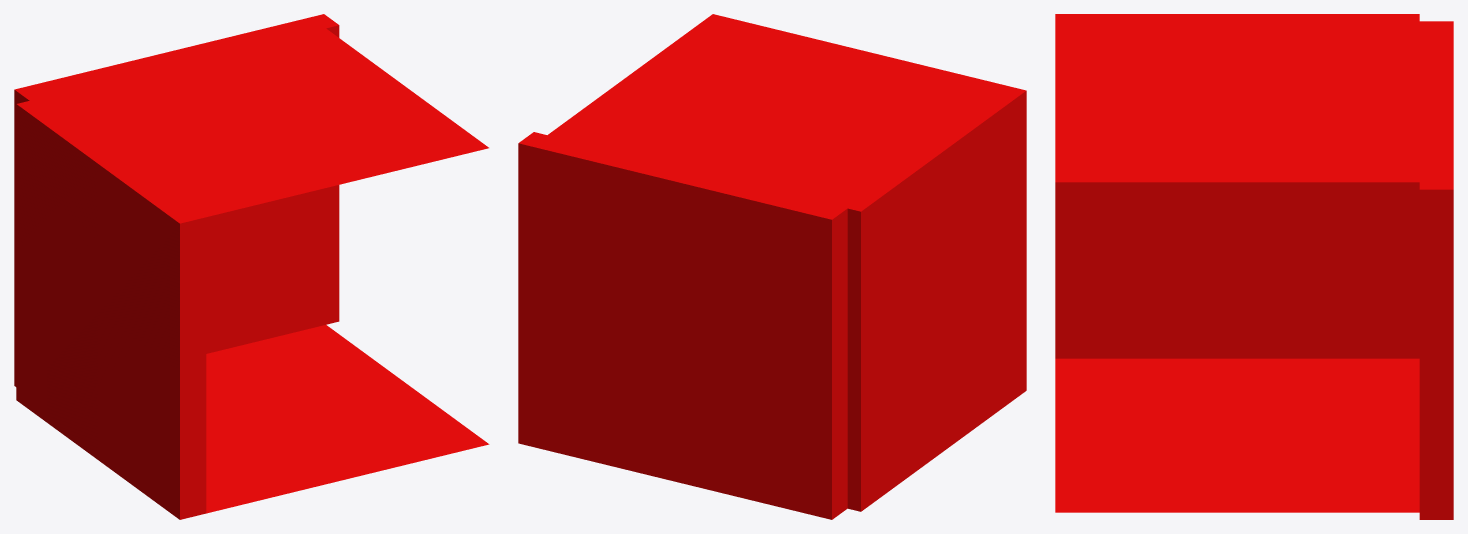
The model's file is cave_corridor_corner.dae.
3 views of the same model, side by side, from view 1: azimuth 30°, elevation 25°; view 2: azimuth 150°, elevation 25°; view 3: azimuth 270°, elevation 25° (orthographic). The views are drawn at different scales.
Visible parts, largest first — view 1: Cube.001, Plane.001, Plane, Cube; view 2: Cube, Cube.001, Plane.001; view 3: Cube.001, Plane.001, Plane, Cube.
Part boxes in pixels (x1=…): Cube.001: x1=16, y1=97, x2=206, y2=519; Plane.001: x1=43, y1=28, x2=488, y2=216; Plane: x1=206, y1=325, x2=489, y2=513; Cube: x1=14, y1=14, x2=339, y2=386; Cube: x1=518, y1=132, x2=847, y2=519; Cube.001: x1=834, y1=84, x2=1026, y2=511; Plane.001: x1=547, y1=14, x2=998, y2=204; Cube.001: x1=1055, y1=14, x2=1419, y2=358; Plane.001: x1=1055, y1=28, x2=1419, y2=182; Plane: x1=1055, y1=358, x2=1419, y2=512; Cube: x1=1419, y1=21, x2=1453, y2=519.
Size of the model in its own units: 292 by 280 by 256.
